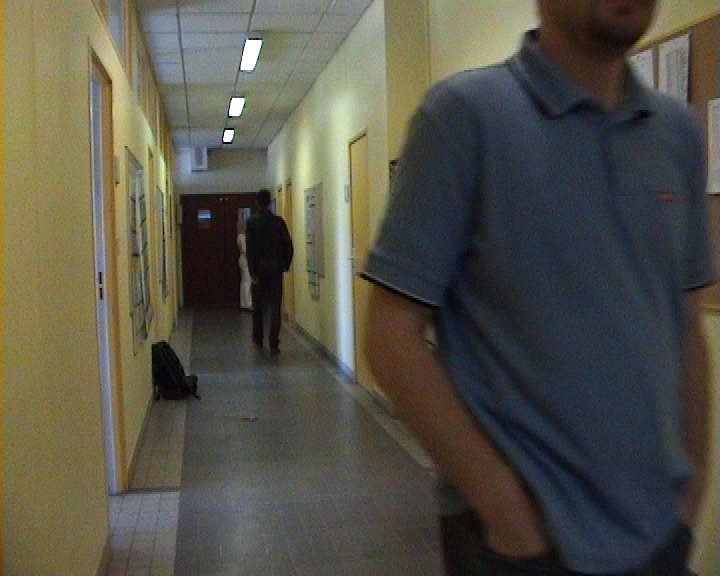leave bag unattended: (123, 327, 251, 419)
